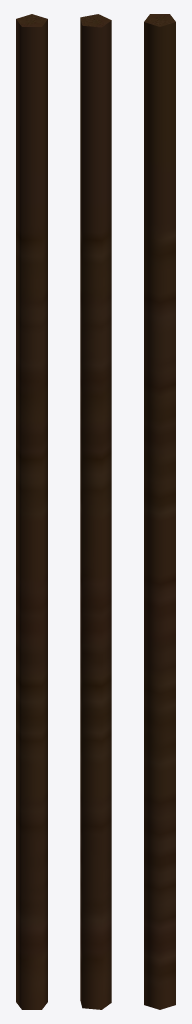
3 views of the same model, side by side, from view 1: azimuth 90°, elevation 25°; view 2: azimuth 150°, elevation 25°; view 3: azimuth 270°, elevation 25° (orthographic).
Visible parts, largest first — view 1: body0_model0_lod0_mesh0; view 2: body0_model0_lod0_mesh0; view 3: body0_model0_lod0_mesh0.
Part boxes in pixels (left/top/right/bottom): body0_model0_lod0_mesh0: left=16, top=14, right=47, bottom=1009; body0_model0_lod0_mesh0: left=80, top=14, right=111, bottom=1009; body0_model0_lod0_mesh0: left=144, top=14, right=175, bottom=1009.
Bounding box in the file's own units: 0.9063 × 32 × 0.9492.
1 material, 1 textured.
